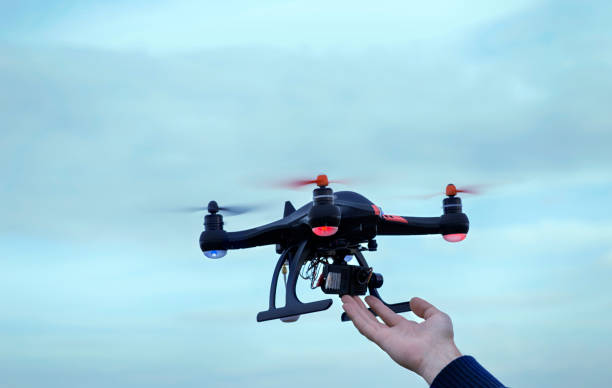Drone: (165, 168, 496, 294)
